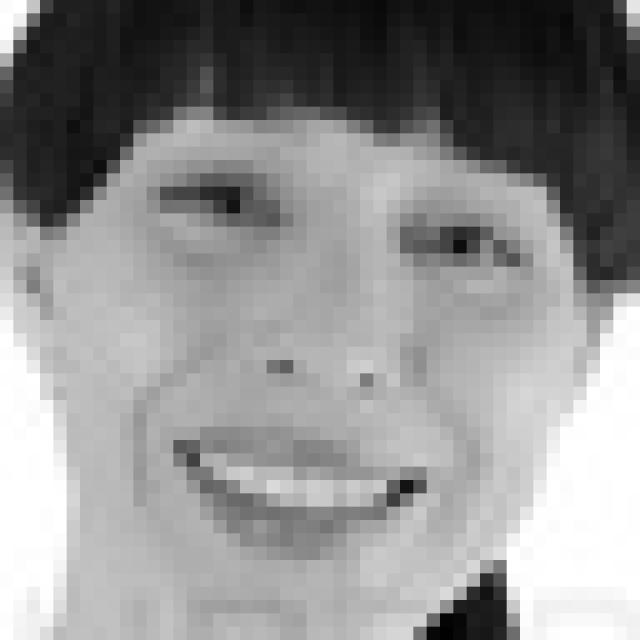happy: (128, 164, 546, 573)
